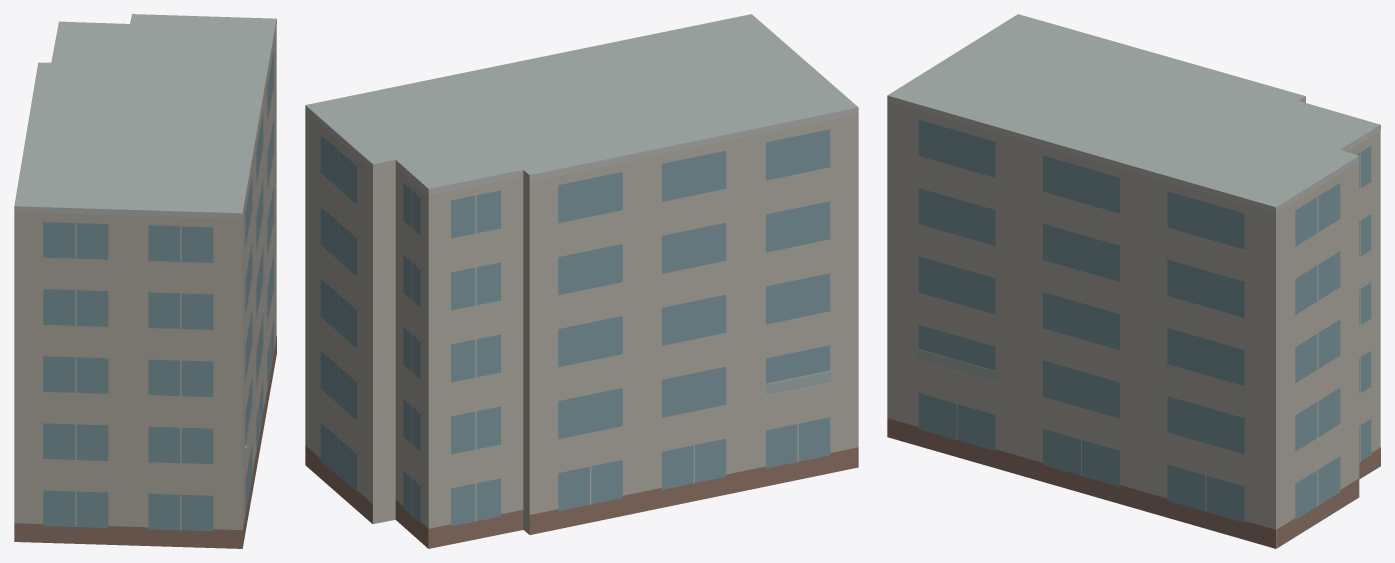
Rendered from survey-upis-32560731.glb.
3 renders of one model, left to right at view 1: azimuth 30°, elevation 25°; view 2: azimuth 150°, elevation 25°; view 3: azimuth 270°, elevation 25°, orthographic. The views are drawn at different scales.
Visible parts, largest first — view 1: survey-upis-32560731.tmp; view 2: survey-upis-32560731.tmp; view 3: survey-upis-32560731.tmp.
Part boxes in pixels (x1=…): survey-upis-32560731.tmp: x1=14, y1=14, x2=276, y2=548; survey-upis-32560731.tmp: x1=305, y1=14, x2=858, y2=548; survey-upis-32560731.tmp: x1=887, y1=14, x2=1380, y2=548.
Size of the model in its own units: 17.06 by 14.05 by 18.4.
